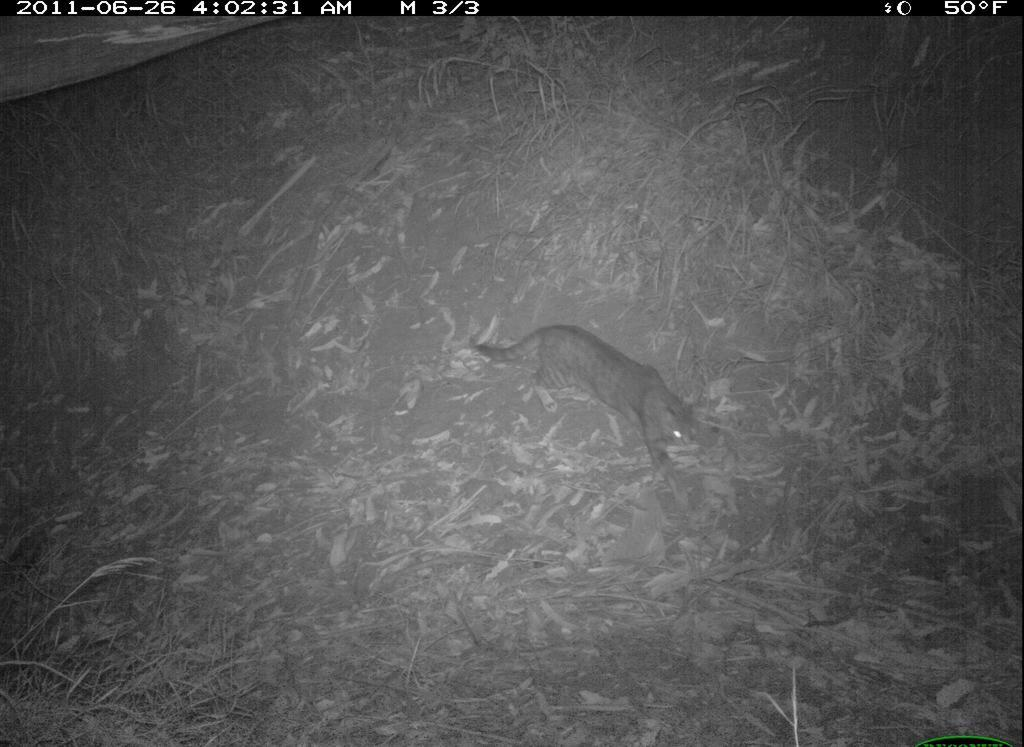cat: (473, 315, 712, 491)
